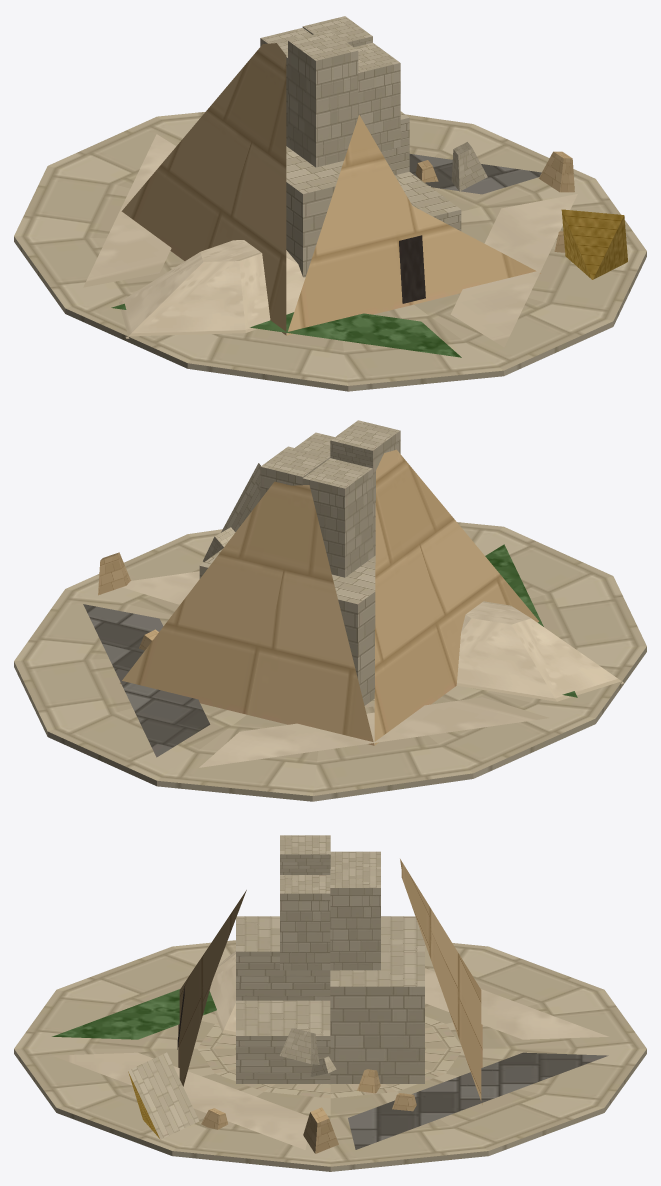
The model's file is pyramid_large_destroyed_lod2.glb.
The picture shows the model from 3 angles, top to bottom: view 1: azimuth 30°, elevation 25°; view 2: azimuth 150°, elevation 25°; view 3: azimuth 270°, elevation 25°; orthographic projection. The views are drawn at different scales.
Parts seen in each view (by area): view 1: pyramid_large_destroyed_lod2; view 2: pyramid_large_destroyed_lod2; view 3: pyramid_large_destroyed_lod2.
Part boxes in pixels (x1,y1,x2,y2): pyramid_large_destroyed_lod2: [14, 16, 646, 391]; pyramid_large_destroyed_lod2: [14, 420, 646, 801]; pyramid_large_destroyed_lod2: [14, 835, 646, 1171].
Size of the model in its own units: 1.68 by 0.6639 by 1.9.
Materials: 1 (1 with a texture image).
